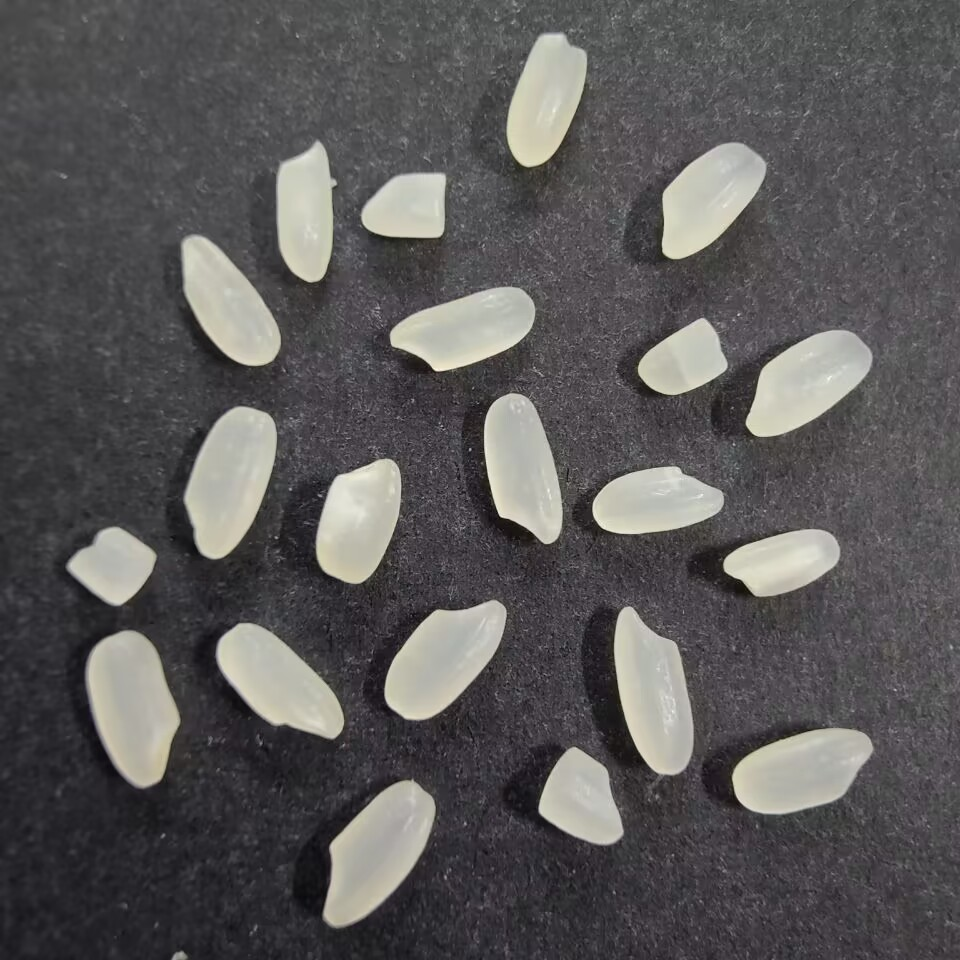broken: (532, 746, 628, 852), (60, 521, 159, 612), (637, 314, 733, 398), (359, 167, 449, 243)
rice: (317, 777, 436, 929), (85, 626, 184, 795), (210, 618, 345, 740), (383, 594, 509, 724), (609, 599, 698, 777), (180, 402, 278, 562), (740, 329, 876, 440), (654, 138, 771, 265), (175, 233, 285, 368), (382, 283, 539, 376), (728, 723, 874, 817), (481, 388, 567, 547), (501, 29, 591, 168), (312, 454, 405, 588), (585, 461, 729, 536), (270, 138, 335, 287), (722, 525, 842, 600)
